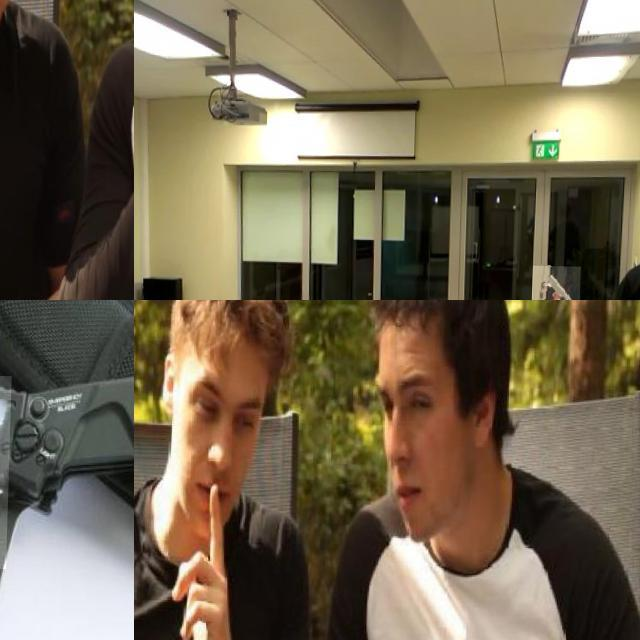-: (0, 370, 134, 567), (0, 10, 41, 233)
gun-knife-thesis - v11 Yolov5 augmented: (533, 263, 583, 300)
